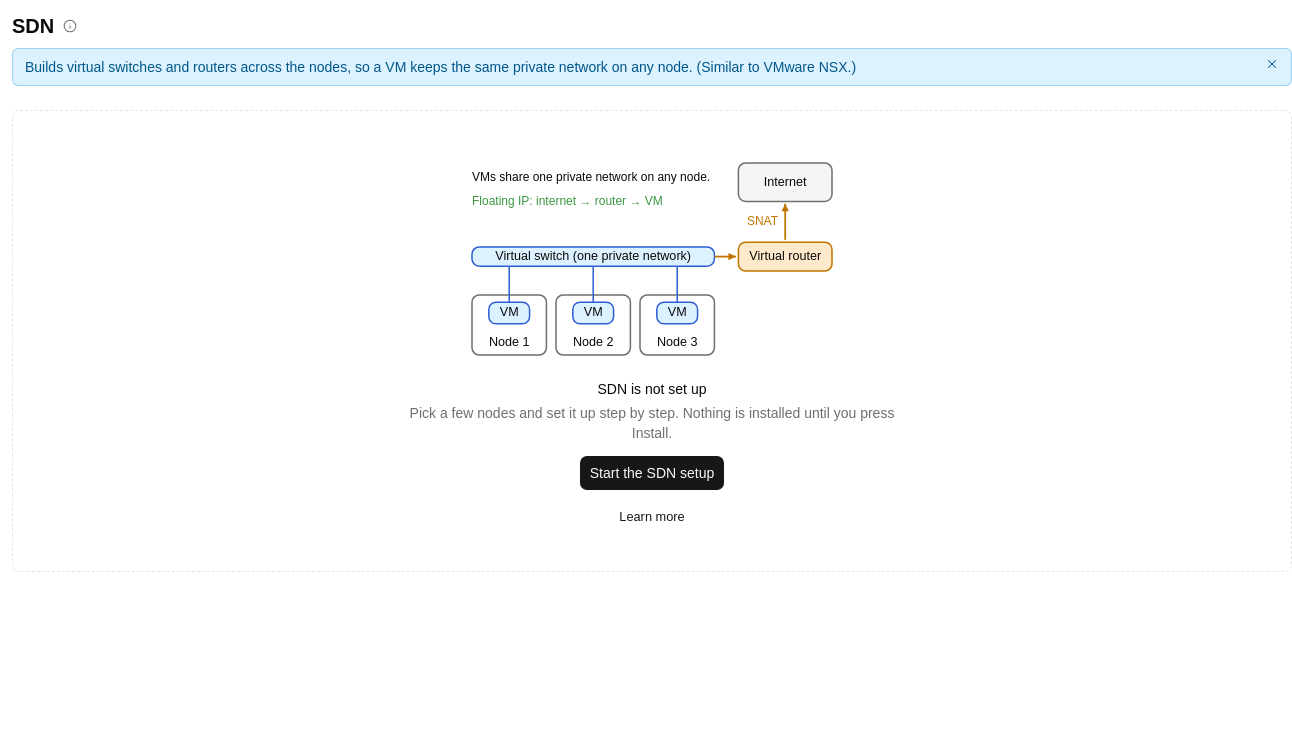
Scenario: shows the server's even-count warning when the chosen centrals end even
The image size is (1292, 732).
What coordinates should you click on to do the following:
click the button "Start the SDN setup"
I would click on:
 (652, 473)
Its box is left=579, top=455, right=725, bottom=491.
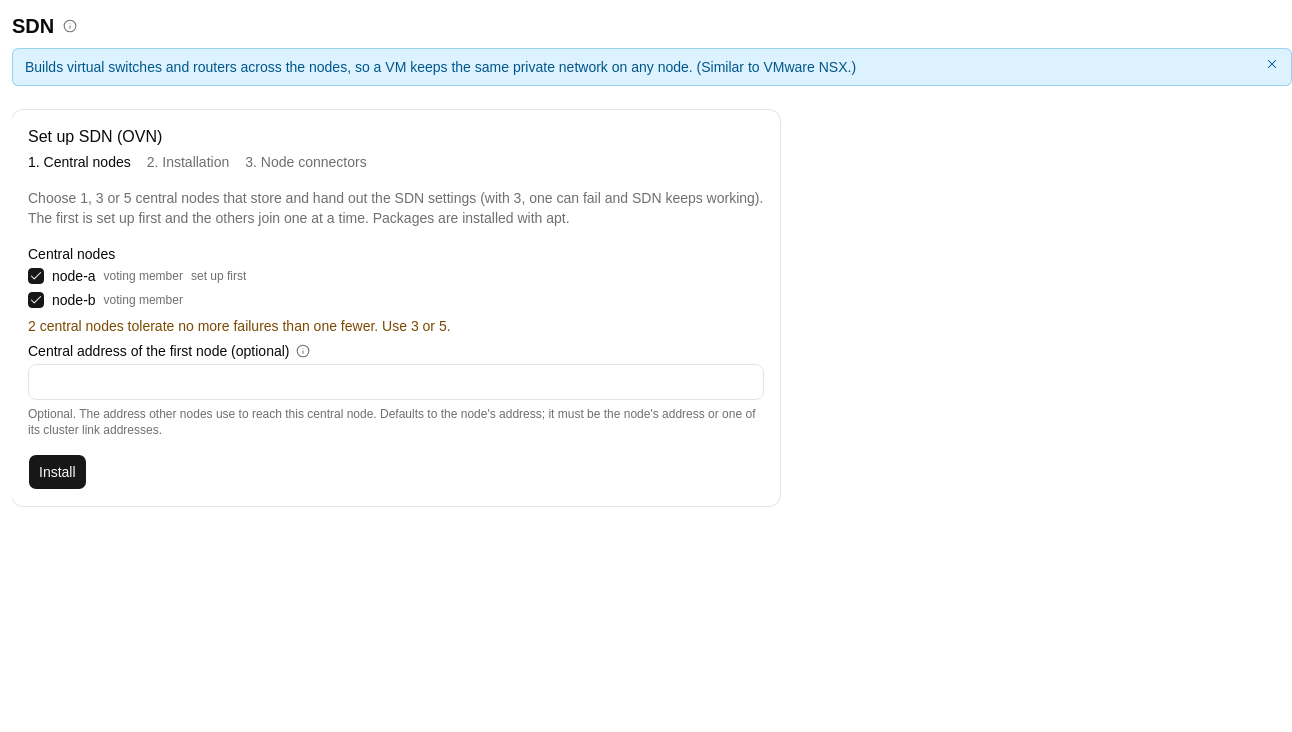
expect the checkbox named "node-b" next to "node-b" is checked: met, box left=28, top=292, right=44, bottom=308
What coordinates should you click on to do the following:
click the button "Install"
I would click on:
 (57, 472)
Its box is left=28, top=454, right=87, bottom=490.
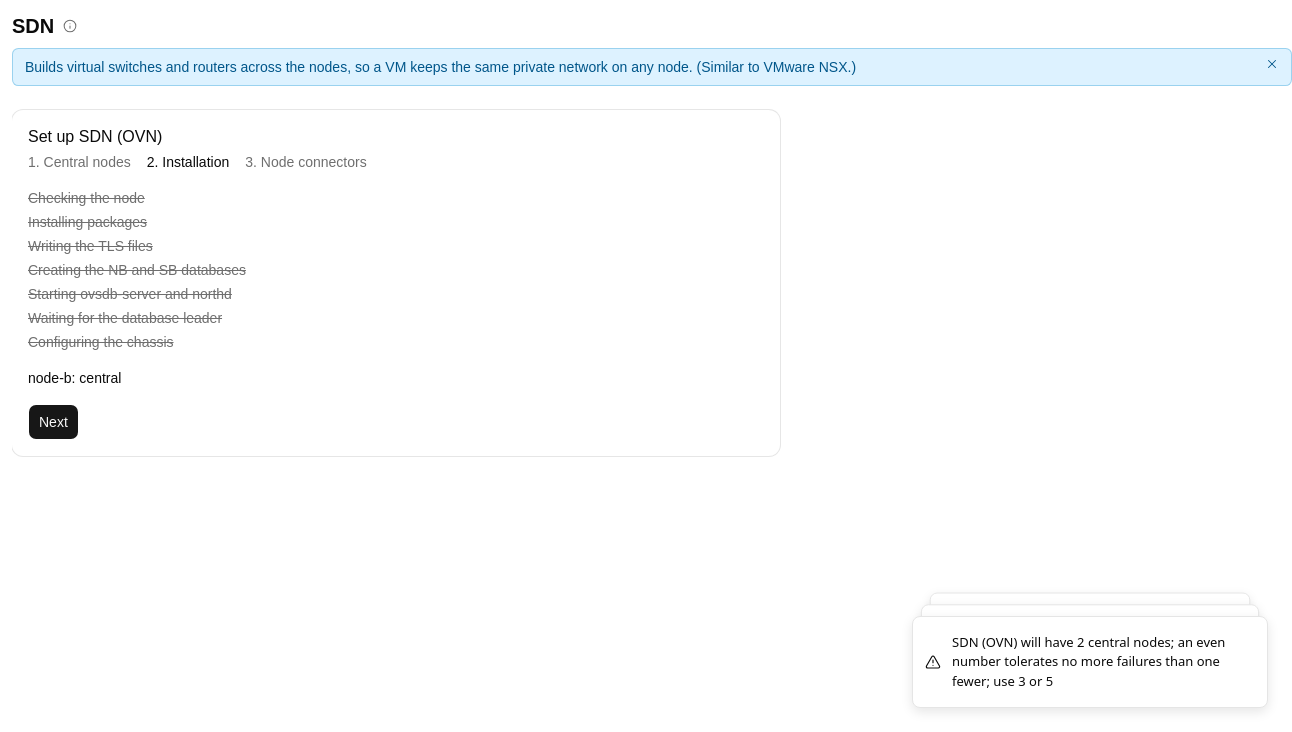
expect the text "will have 2 central nodes" is shown: met, box left=952, top=632, right=1225, bottom=690
